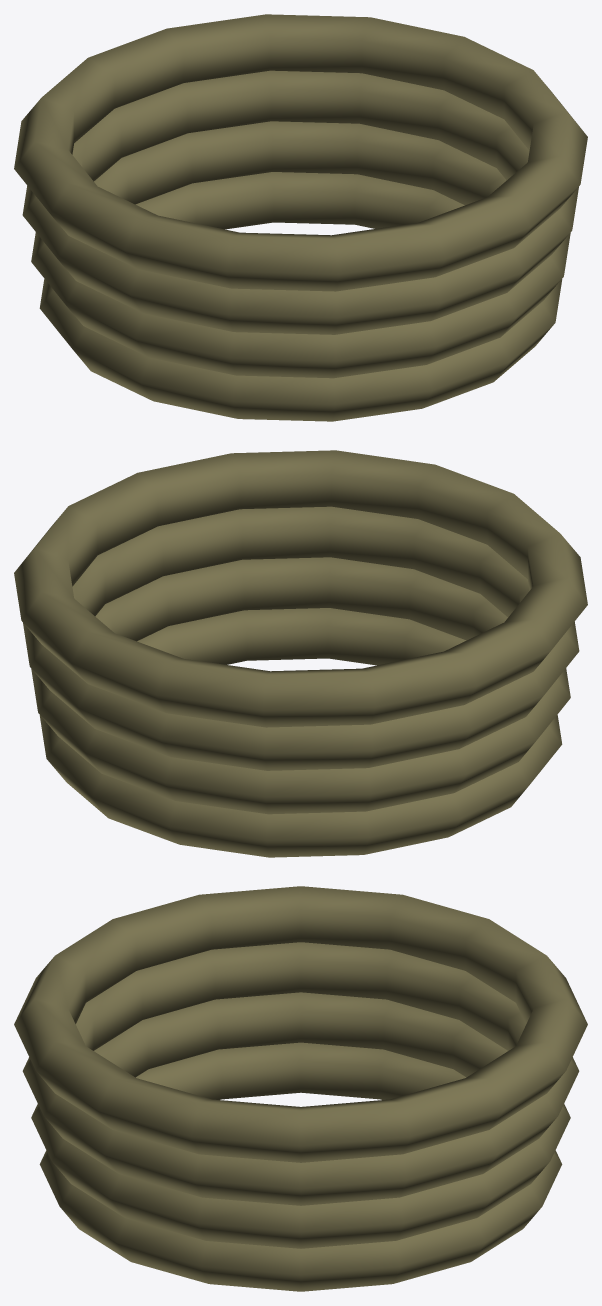
Rendered from cord_coil.glb.
3 renders of one model, top to bottom at view 1: azimuth 30°, elevation 25°; view 2: azimuth 150°, elevation 25°; view 3: azimuth 270°, elevation 25°, orthographic.
Visible parts, largest first — view 1: cord_coil; view 2: cord_coil; view 3: cord_coil.
Part boxes in pixels (bbox=[...]): cord_coil: bbox=[14, 14, 587, 421]; cord_coil: bbox=[14, 450, 587, 857]; cord_coil: bbox=[14, 886, 587, 1291].
Bounding box in the file's own units: 0.067 × 0.0247 × 0.067.
